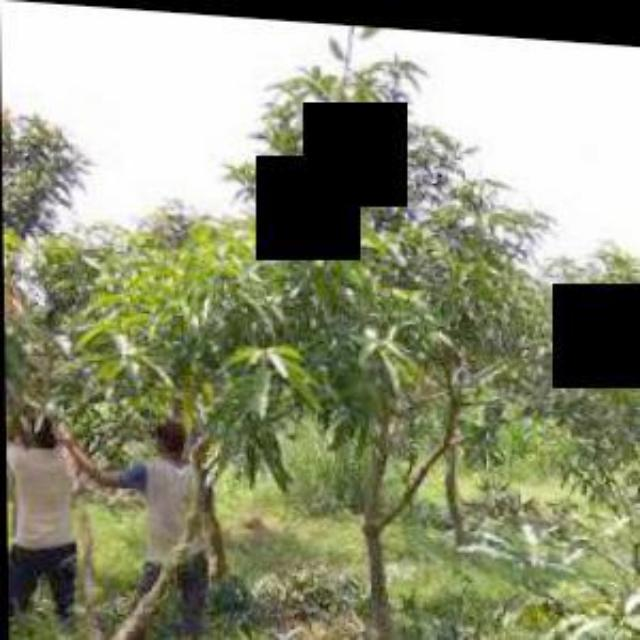tree: (250, 45, 536, 638), (87, 180, 343, 590)
